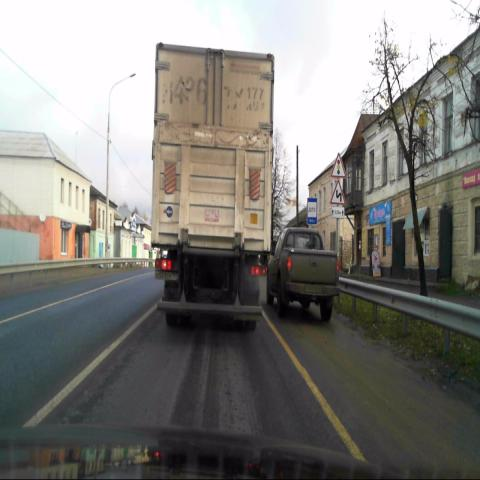1_12_2: (330, 179, 346, 205)
7_12: (307, 197, 317, 225)
